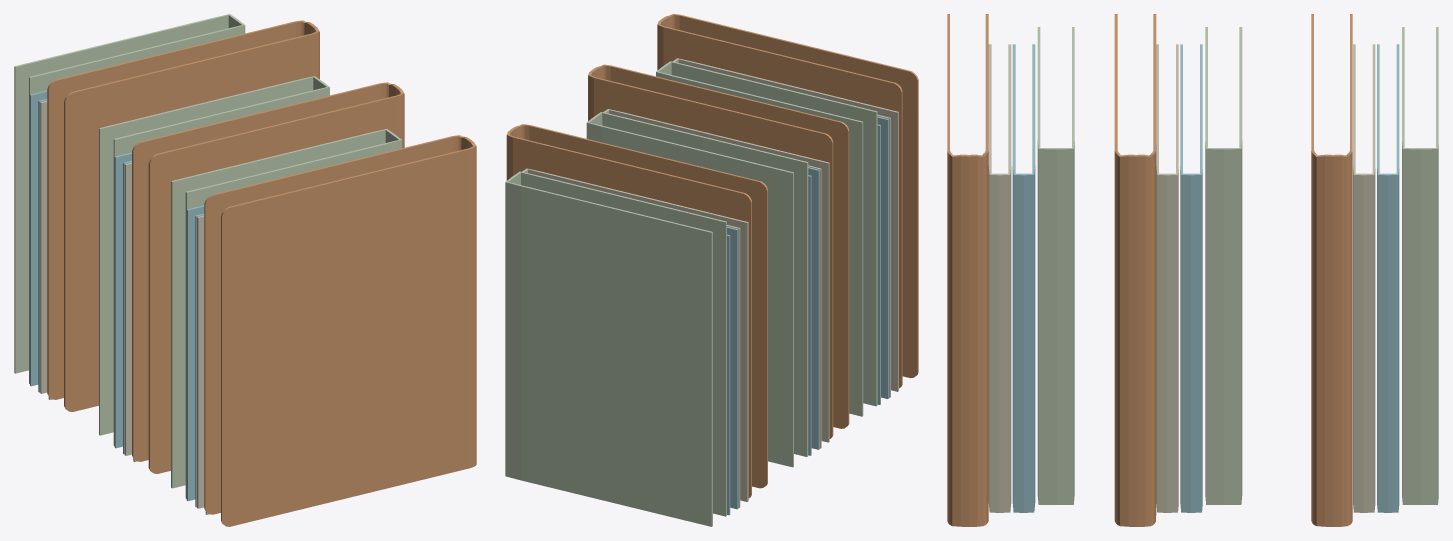
Rendered from libros.fbx.
3 views of the same model, side by side, from view 1: azimuth 30°, elevation 25°; view 2: azimuth 150°, elevation 25°; view 3: azimuth 270°, elevation 25° (orthographic). The views are drawn at different scales.
Parts seen in each view (by area): view 1: Plane21157.003; view 2: Plane21157.003; view 3: Plane21157.003.
Boxes of the visible parts, x1,y1,x2,y2 form: Plane21157.003: [14, 14, 476, 526]; Plane21157.003: [505, 14, 918, 526]; Plane21157.003: [947, 14, 1438, 526].
Size of the model in its own units: 40.1 by 47.34 by 56.94.
